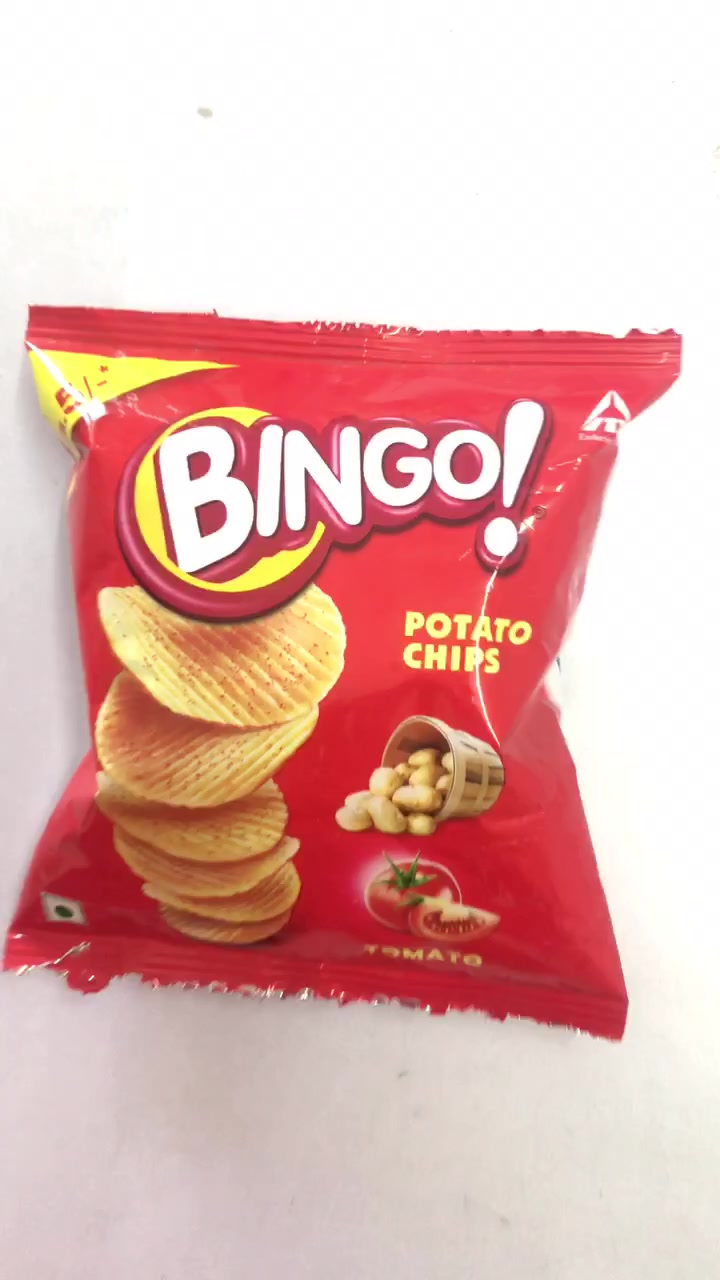Bingo: (23, 307, 685, 1038)
